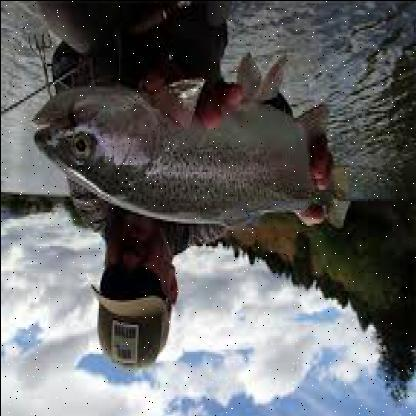fish: (34, 56, 356, 232)
